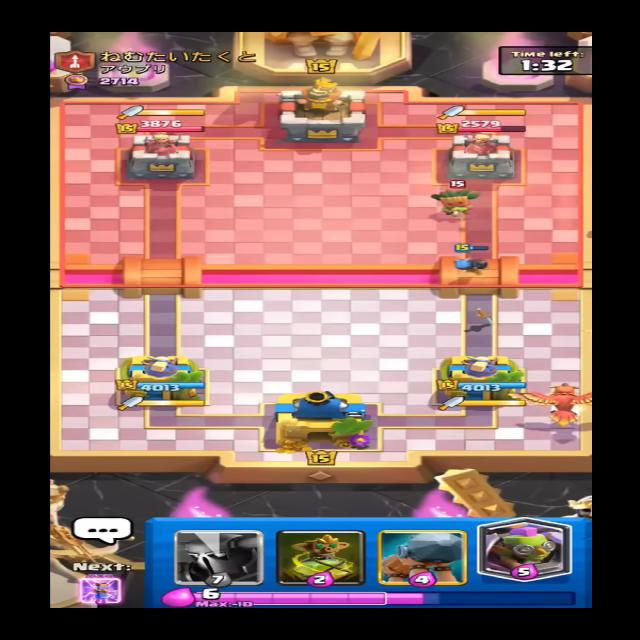Dartgoblin: (430, 176, 482, 216)
